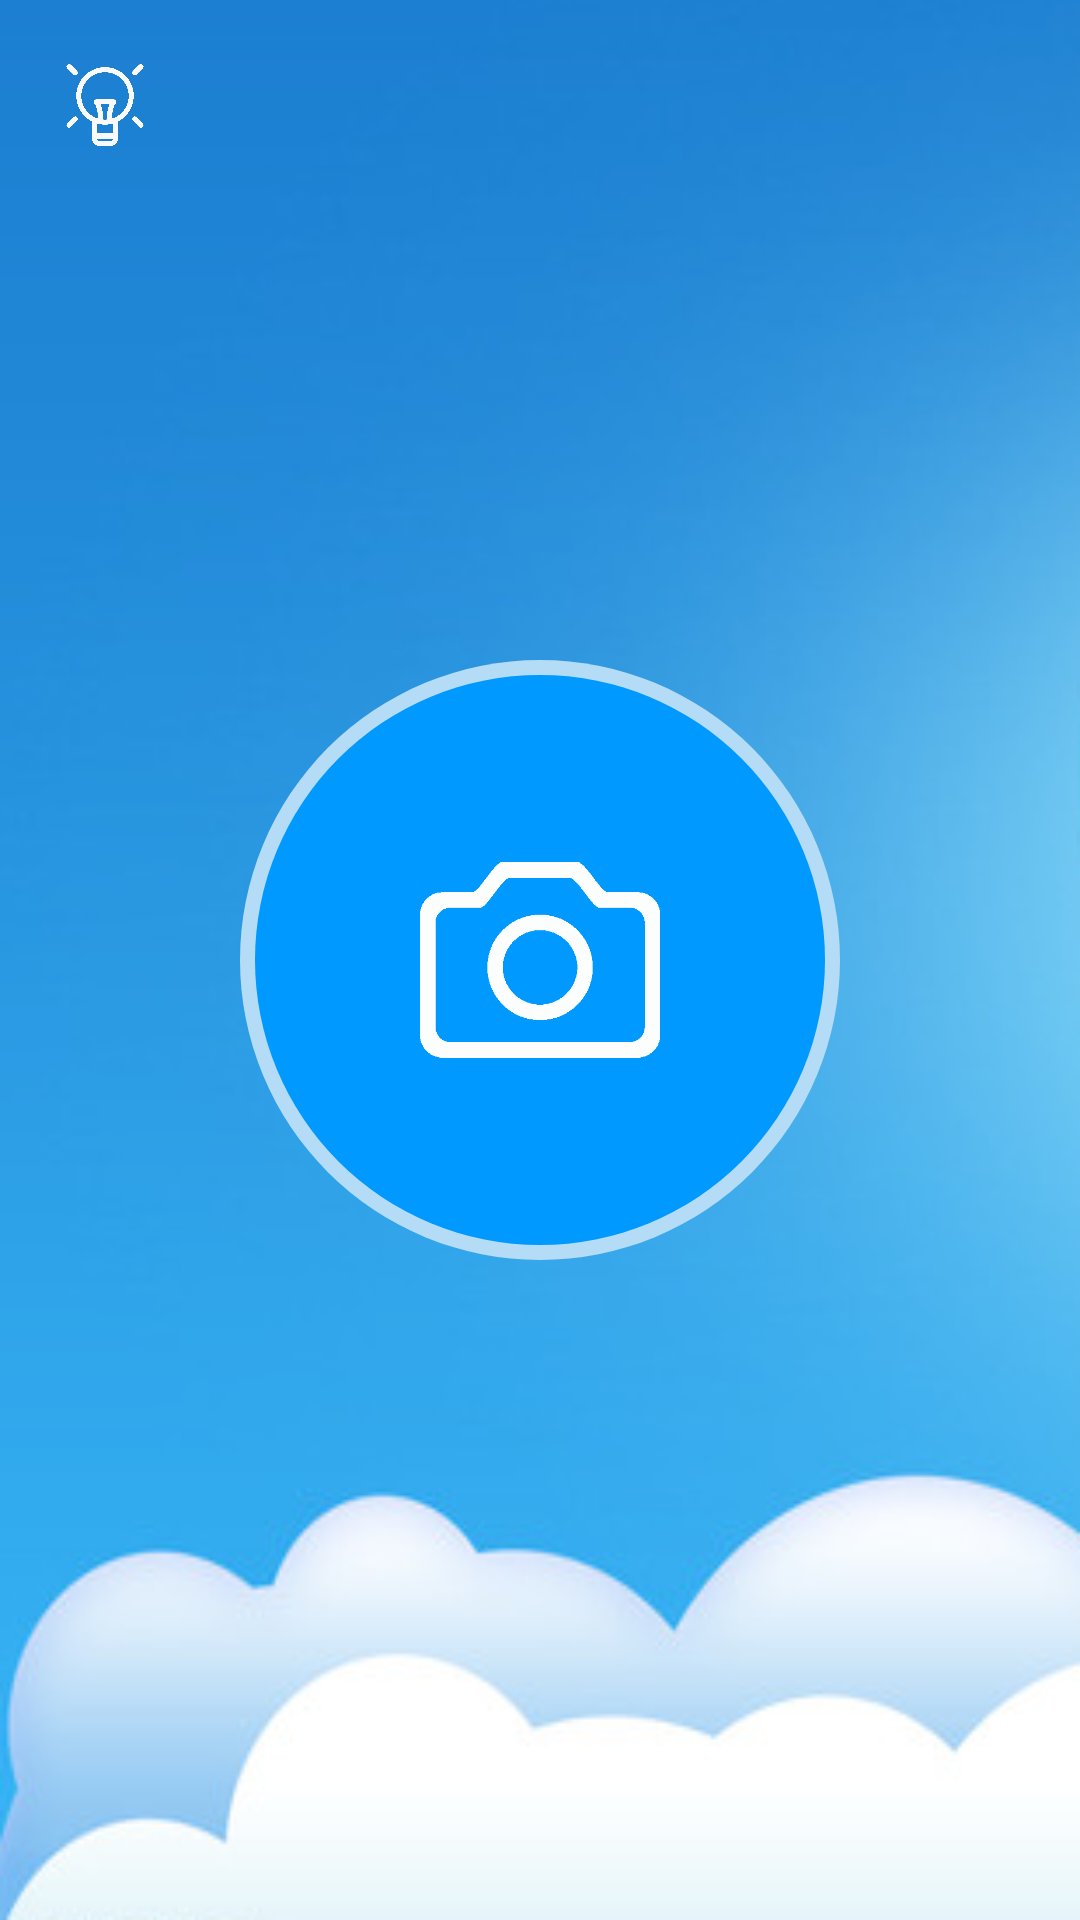

Icons on this 1080 x 1920 Android screen, each with its box as (left=x1, top=y1, right=x2, bottom=y2):
bulb: (left=66, top=64, right=144, bottom=146)
